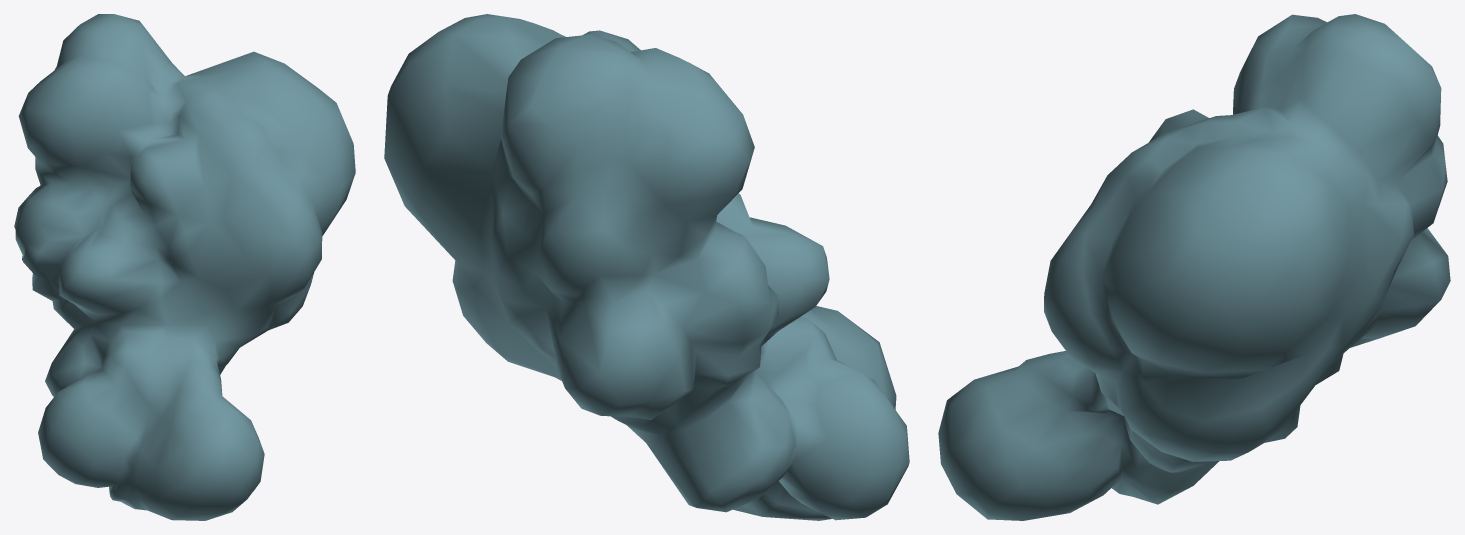
Rendered from env_primalcave_rocks_smallblob01.fbx.
3 renders of one model, left to right at view 1: azimuth 30°, elevation 25°; view 2: azimuth 150°, elevation 25°; view 3: azimuth 270°, elevation 25°, orthographic. The views are drawn at different scales.
Visible parts, largest first — view 1: env_excavation_underground_sticky_blockout_smallblob01; view 2: env_excavation_underground_sticky_blockout_smallblob01; view 3: env_excavation_underground_sticky_blockout_smallblob01.
Boxes of the visible parts, x1,y1,x2,y2 form: env_excavation_underground_sticky_blockout_smallblob01: (14, 14, 355, 520); env_excavation_underground_sticky_blockout_smallblob01: (384, 14, 909, 520); env_excavation_underground_sticky_blockout_smallblob01: (938, 14, 1450, 520).
Bounding box in the file's own units: 9.63 × 10.97 × 9.91.
